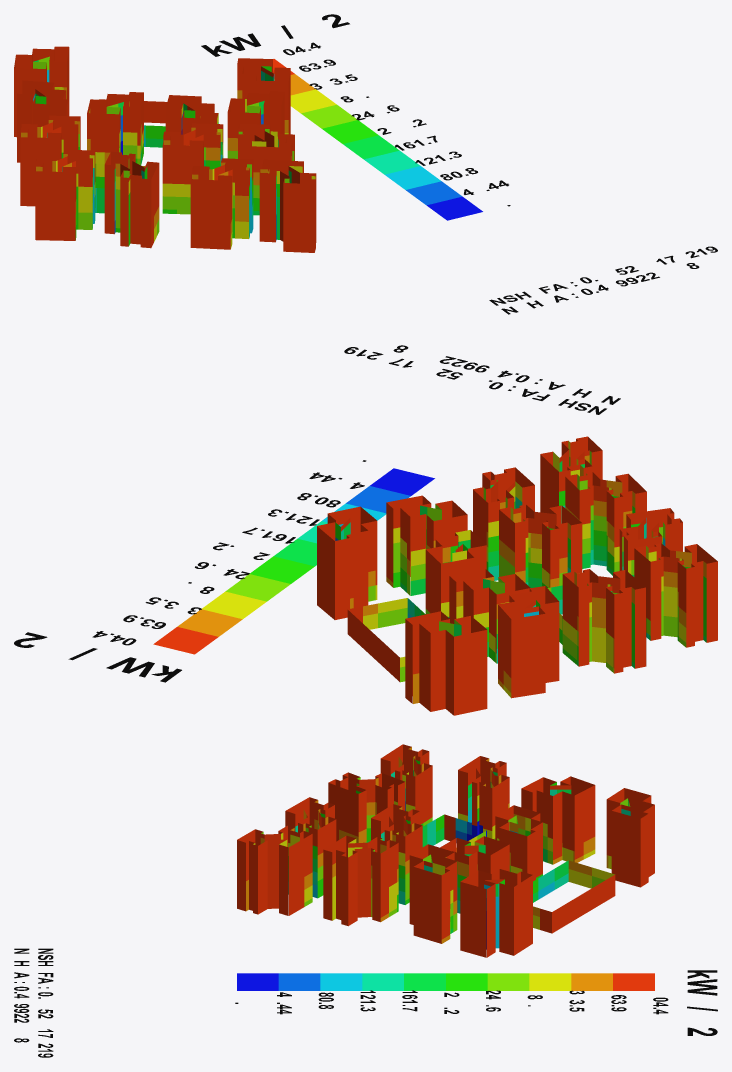
Rendered from punggol_luse101_nshfavi.dae.
3 views of the same model, one above another, from view 1: azimuth 30°, elevation 25°; view 2: azimuth 150°, elevation 25°; view 3: azimuth 270°, elevation 25° (orthographic). The views are drawn at different scales.
Visible parts, largest first — view 1: node0 (×15); view 2: node0 (×16); view 3: node0 (×19).
Boxes of the visible parts, left/top/right/bottom form: node0 (×15): left=14, top=14, right=717, bottom=314; node0 (×16): left=14, top=345, right=717, bottom=715; node0 (×19): left=14, top=744, right=717, bottom=1057.
Bounding box in the file's own units: 366 × 446 × 48.
